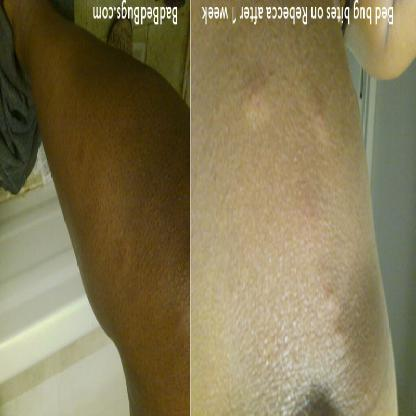Bed Bug: (74, 138, 89, 178), (244, 80, 262, 112), (116, 242, 130, 279), (331, 324, 347, 356), (312, 104, 328, 134), (324, 286, 336, 312), (172, 308, 184, 334)
